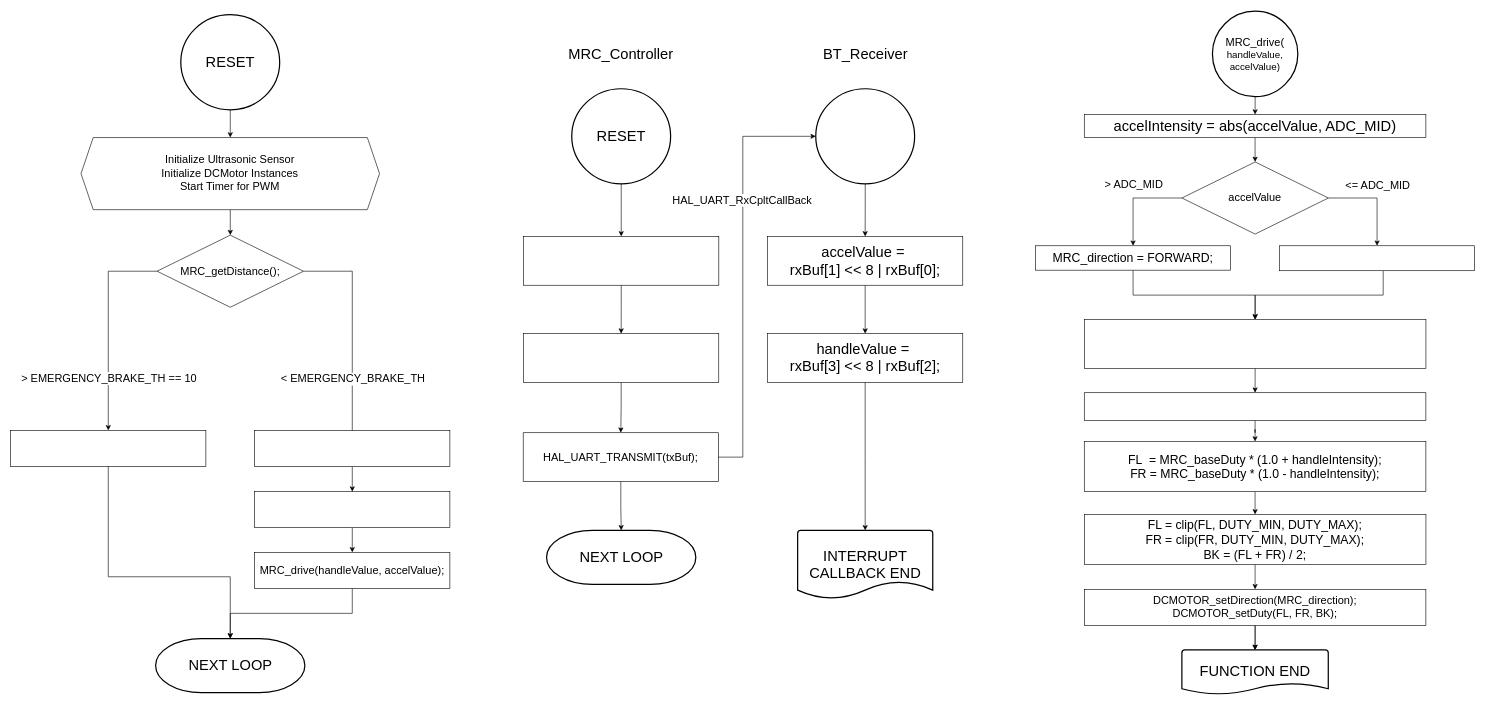
Some shapes in this 1485 by 705 pixel diagram are drawn without their labels. The centre of each missing label's shape, as x and y in pixels:
"accelValue = MRC_BT_getAccelValue();" goes at point (352, 509).
"handleIntensity = (handleValue - ADC_MID) / ADC_MID;" goes at point (1255, 406).
"handleValue = MRC_BT_getHandleValue();" goes at point (352, 448).
"INTERRUPT CALLBACK" goes at point (865, 136).
"MRC_baseDuty = DUTY_MIN + (accelIntensity / ADC_MID) * (DUTY_MAX - DUTY_MIN);" goes at point (1255, 343).
"MRC_direction = BACKWARD;" goes at point (1377, 258).
"MRC_emergencyBrakeAllMotors();" goes at point (108, 448).
"txBuf[0] = ADC[0] >> 0; txBuf[1] = ADC[0] >> 8;" goes at point (621, 260).
"txBuf[2] = ADC[1] >> 0; txBuf[3] = ADC[1] >> 8;" goes at point (621, 357).
